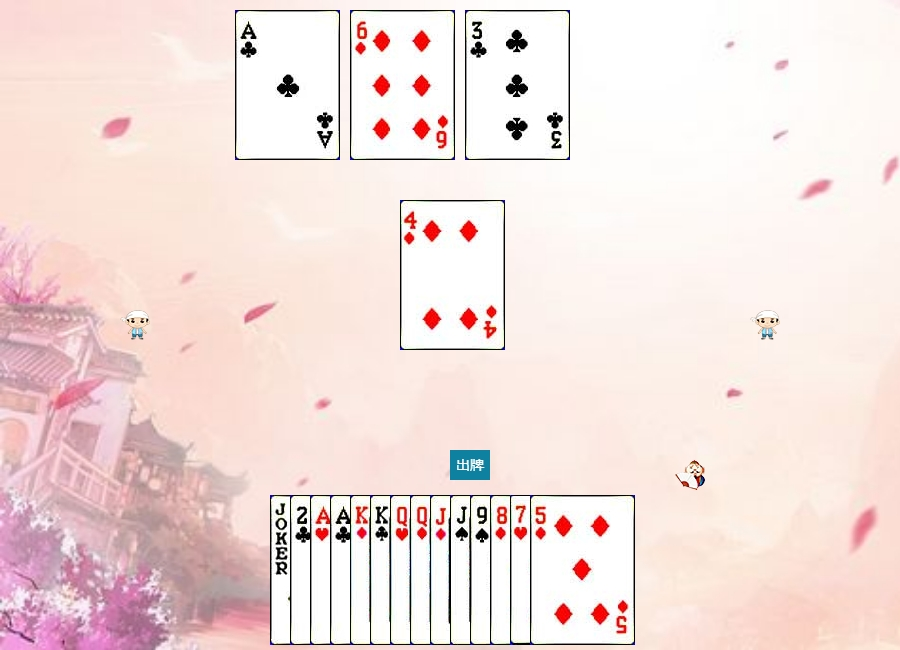11~1: (430, 495, 535, 645)
11~4: (450, 495, 555, 645)
12~1: (410, 495, 515, 645)
12~3: (390, 495, 495, 645)
13~1: (350, 495, 455, 645)
13~2: (370, 495, 475, 645)
14~2: (235, 10, 340, 160), (330, 495, 435, 645)
14~3: (310, 495, 415, 645)
15~2: (290, 495, 395, 645)
17~3: (270, 495, 375, 645)
3~2: (465, 10, 570, 160)
4~1: (400, 200, 505, 350)
5~1: (530, 495, 635, 645)
6~1: (350, 10, 455, 160)
7~3: (510, 495, 615, 645)
8~1: (490, 495, 595, 645)
9~4: (470, 495, 575, 645)
